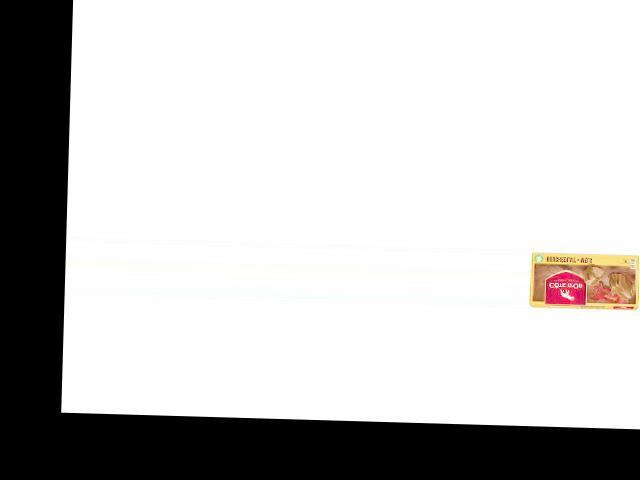chocolate: (529, 243, 640, 313)
